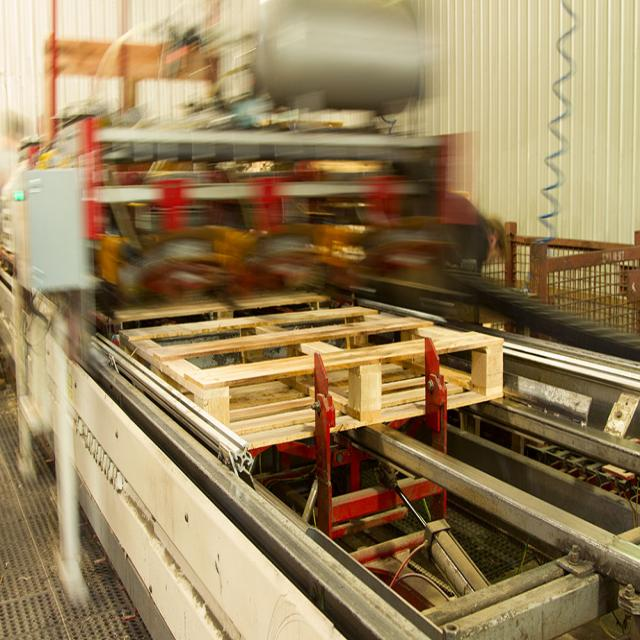Palette: (106, 294, 508, 440)
